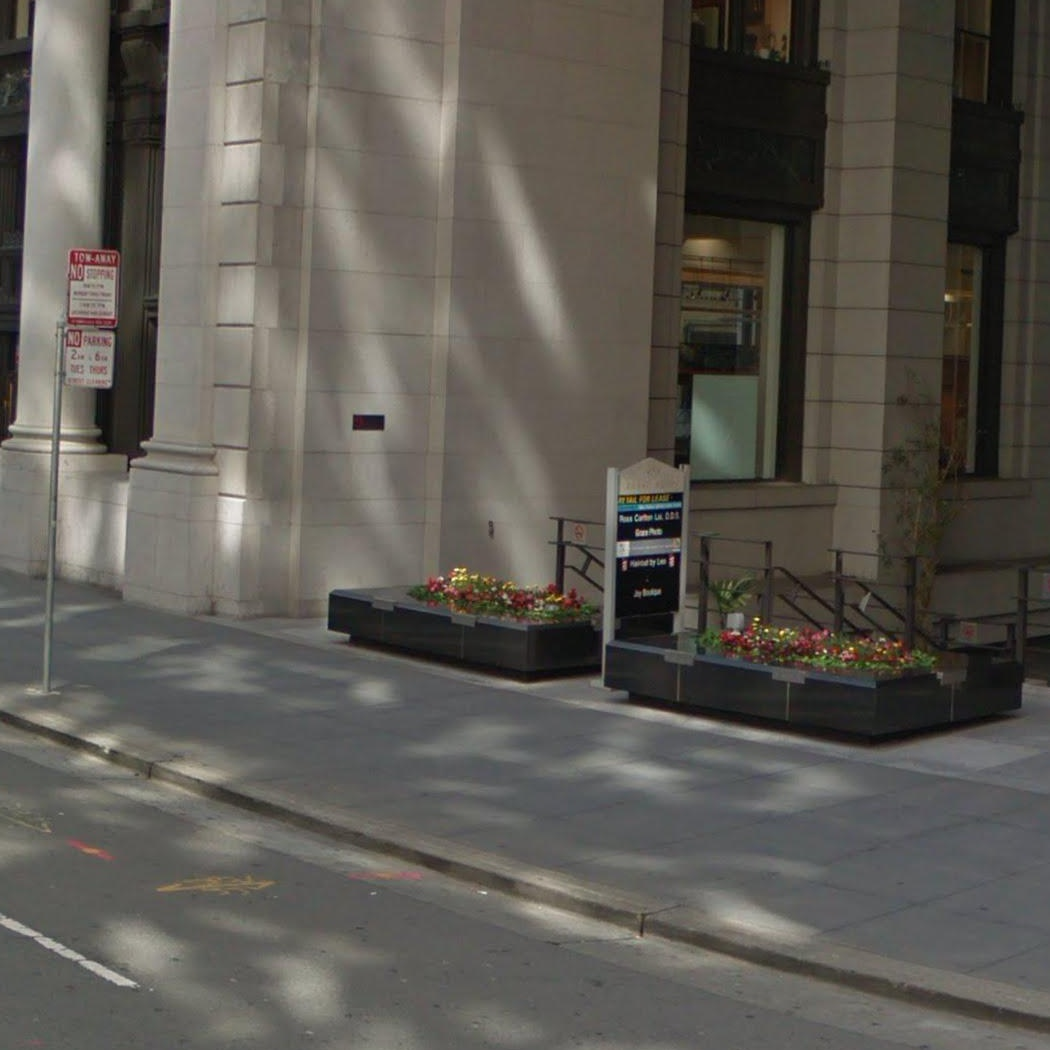No Parking: (62, 328, 115, 389)
